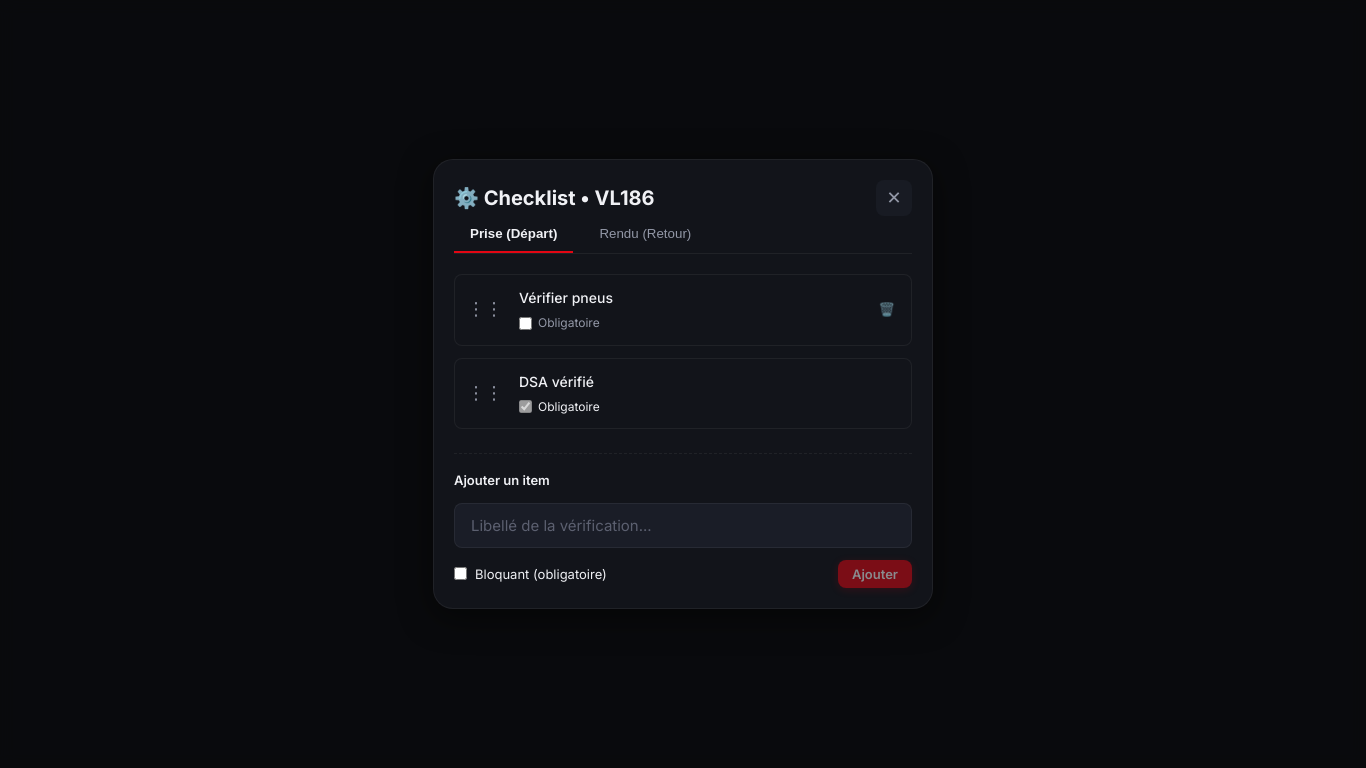
Test: ChecklistManager › bascule vers l'onglet "Rendu"
Check: the text "Vérifier pneus" is shown, box [519,289,613,306]
Click the button "Rendu (Retour)" at (645, 234), box [583,216,707,253]
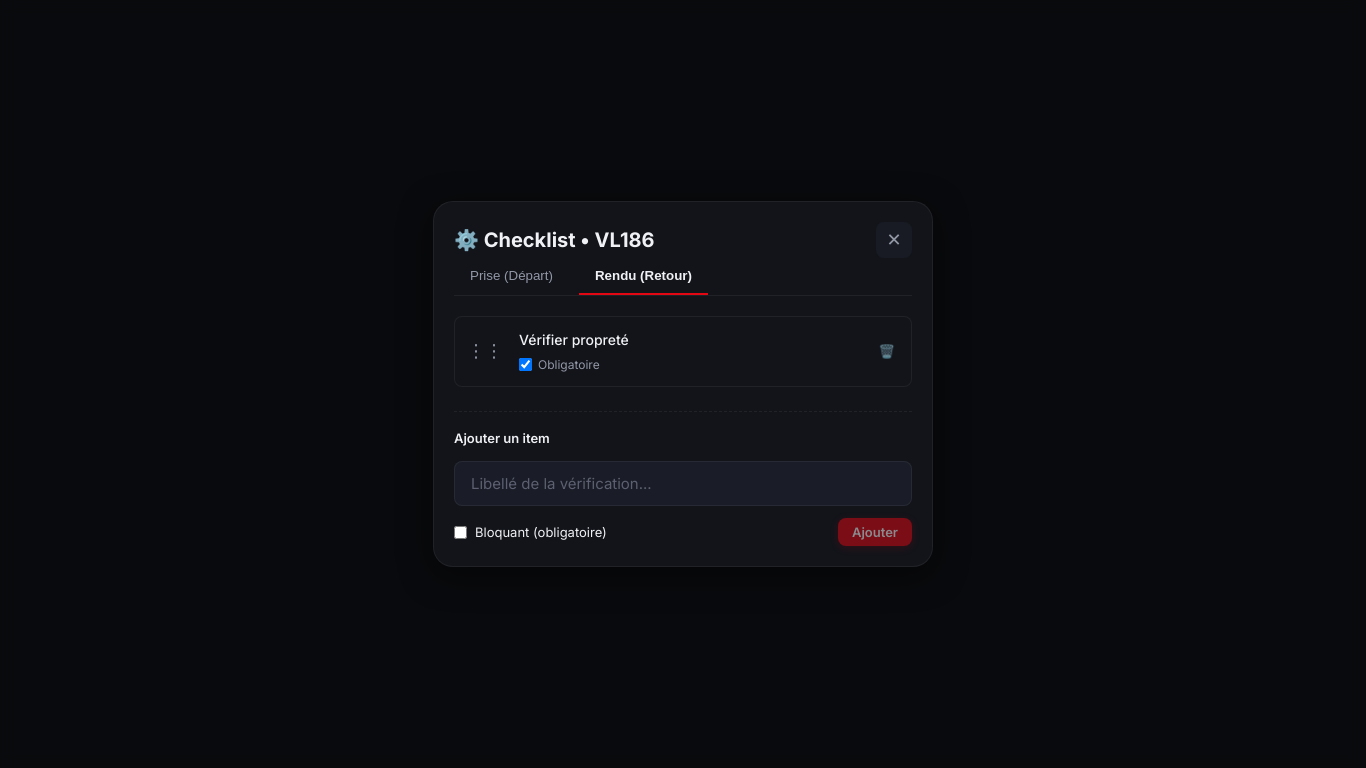
Check: the text "Vérifier propreté" is shown, box [519,331,629,348]
Check: the text "Vérifier pneus" is gone
